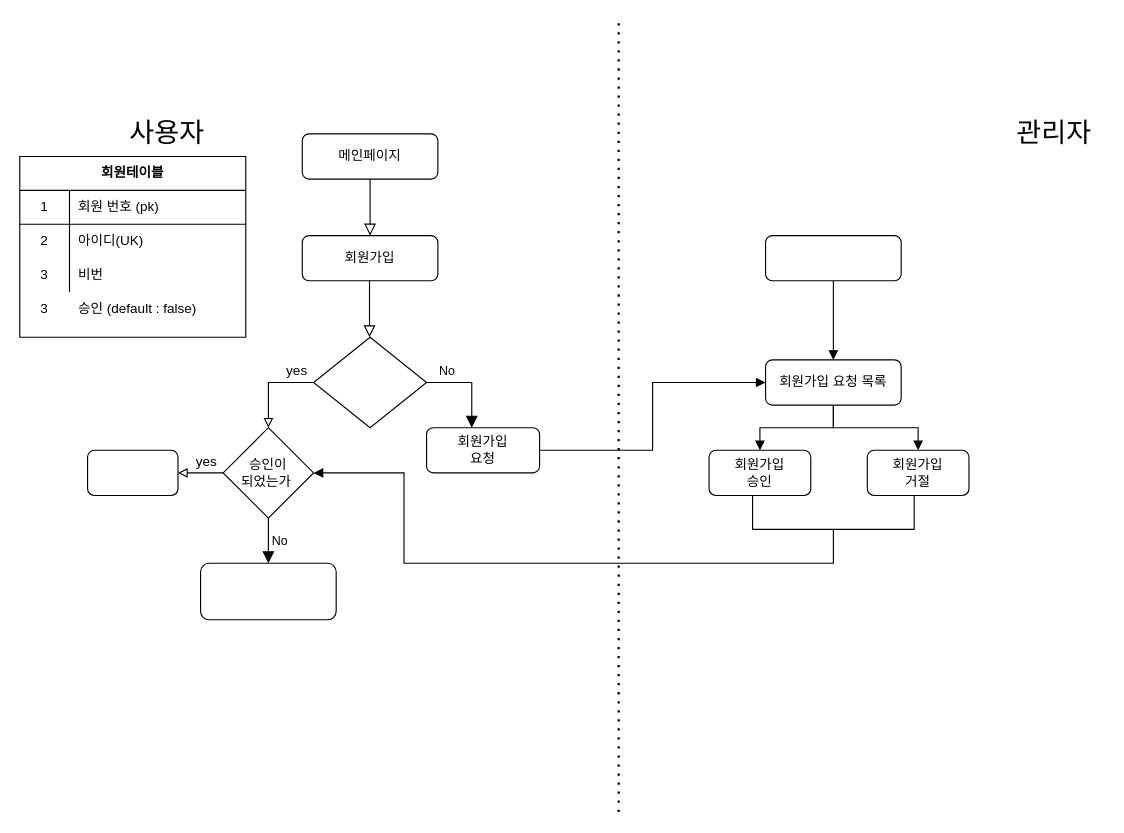
This 1124x833 diagram has some shape labels left out. The shapes that lost their labels are listed below. From the top down, each one's box as (x1, y1, x2, y2) in pixels, then its label:
(764, 234, 901, 281): 관리자 페이지
(312, 336, 427, 428): 회원가입이 되어있는가
(86, 449, 178, 496): 로그인
(199, 562, 336, 620): 승인되지 않은 사용자입니다 안내창
